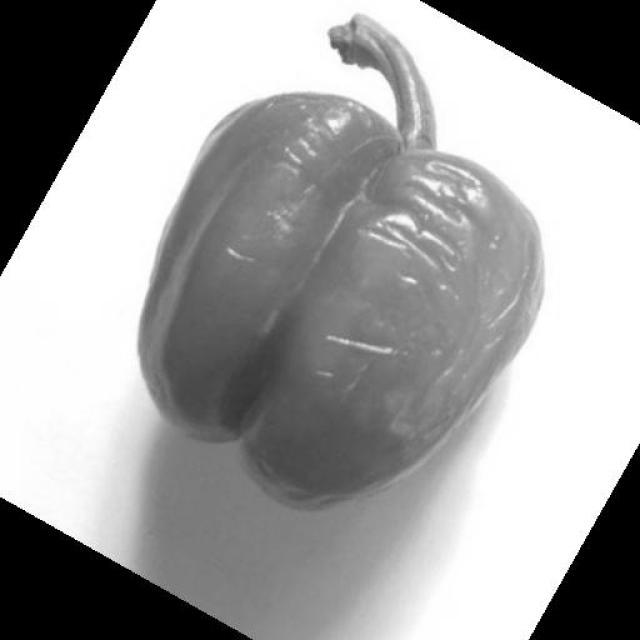Stale_Capsicum: (236, 138, 519, 458)
